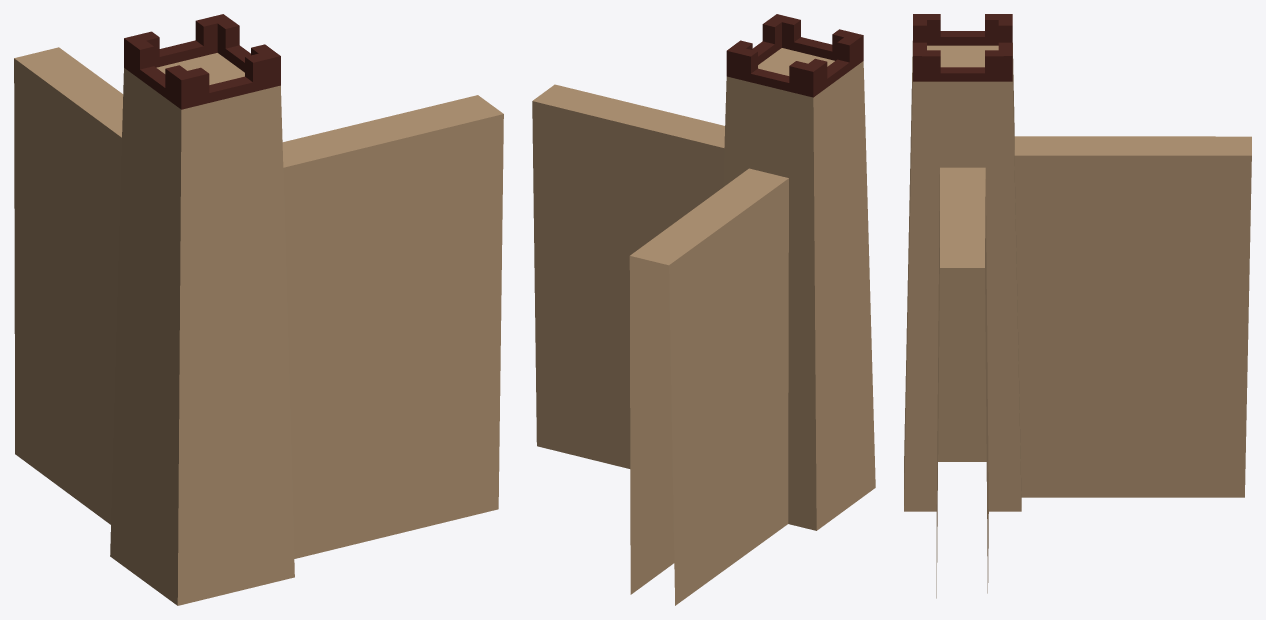
The model's file is Low_Wall_Corner.fbx.
The picture shows the model from 3 angles, left to right: view 1: azimuth 30°, elevation 25°; view 2: azimuth 150°, elevation 25°; view 3: azimuth 270°, elevation 25°; orthographic projection. The views are drawn at different scales.
Parts seen in each view (by area): view 1: Low_Wall_Corner; view 2: Low_Wall_Corner; view 3: Low_Wall_Corner.
Boxes of the visible parts, box(x1,y1,x2,y2) form: Low_Wall_Corner: box(14, 14, 503, 605); Low_Wall_Corner: box(532, 14, 875, 605); Low_Wall_Corner: box(904, 14, 1251, 598).
Bounding box in the file's own units: 370 × 530 × 370.
Materials: 1 (1 with a texture image).
